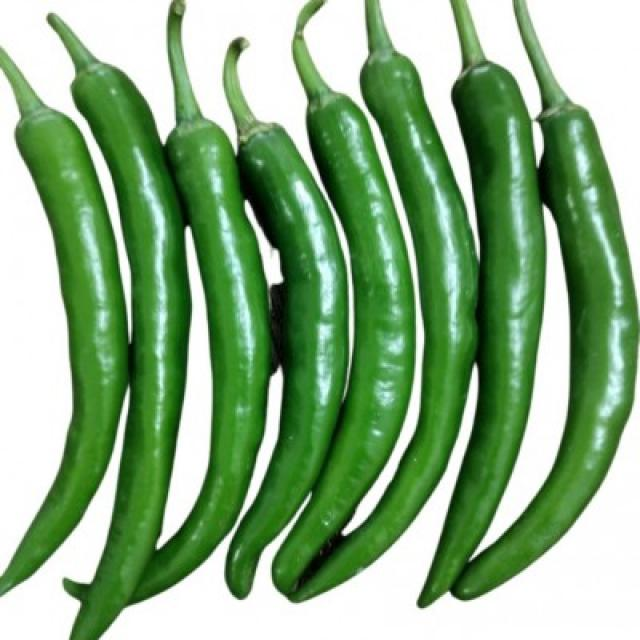green chilli: (451, 0, 640, 601), (301, 13, 478, 601), (131, 0, 270, 602), (58, 29, 191, 639), (419, 0, 547, 609), (274, 70, 416, 594), (224, 38, 349, 599), (0, 48, 128, 594)
